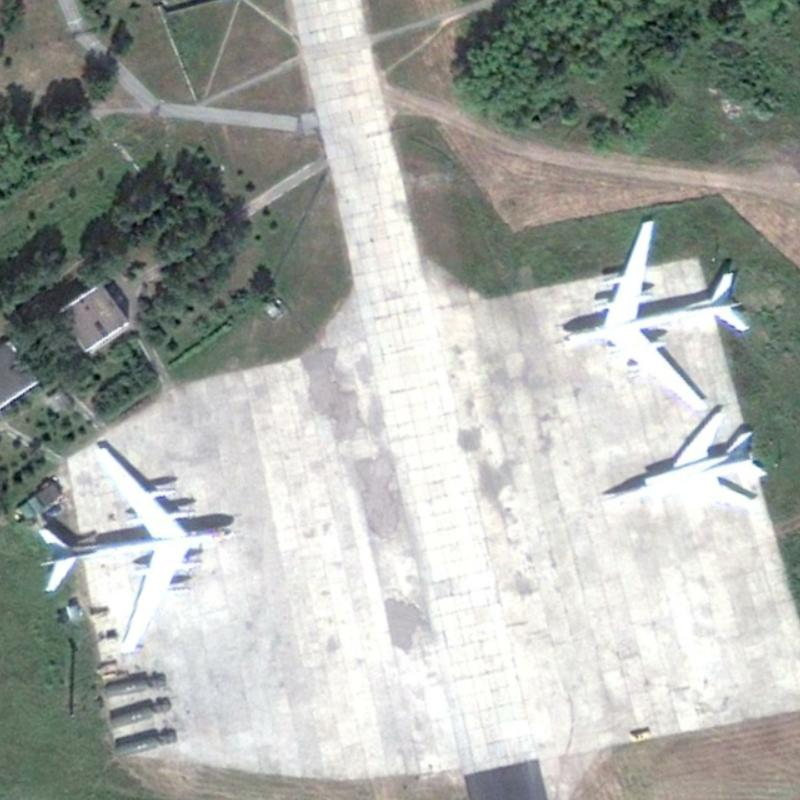A12: (597, 408, 768, 510)
A17: (34, 442, 235, 657), (555, 216, 752, 413)
